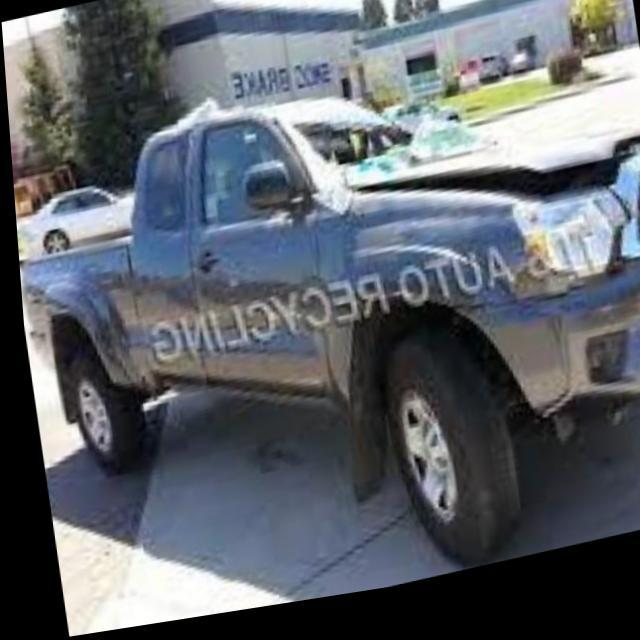dent: (346, 151, 640, 222)
glass shatter: (267, 111, 461, 198)
